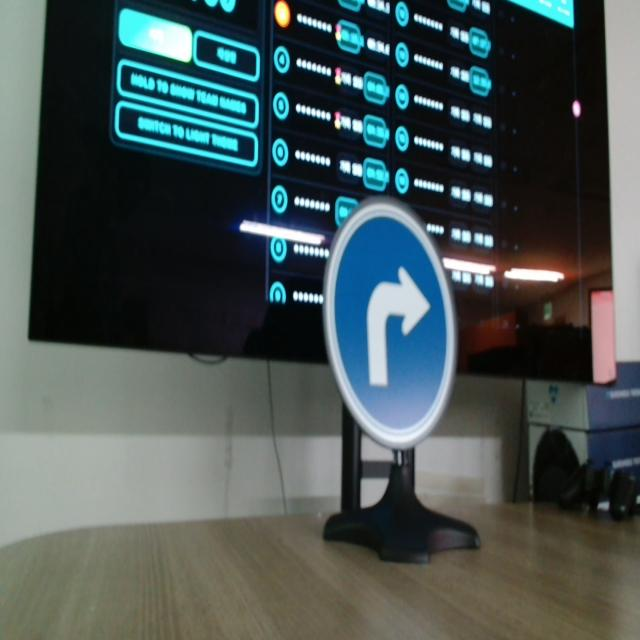right_dierection: (302, 189, 473, 444)
